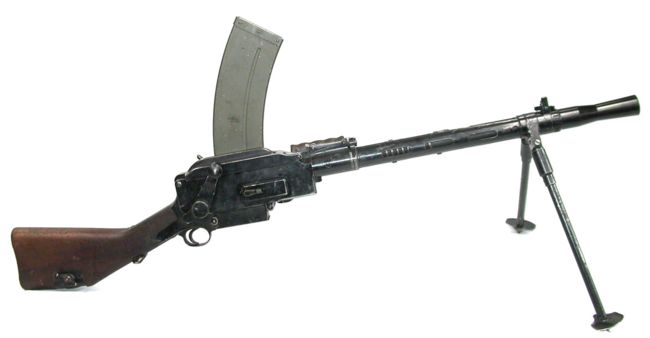rifle: (12, 18, 638, 298)
